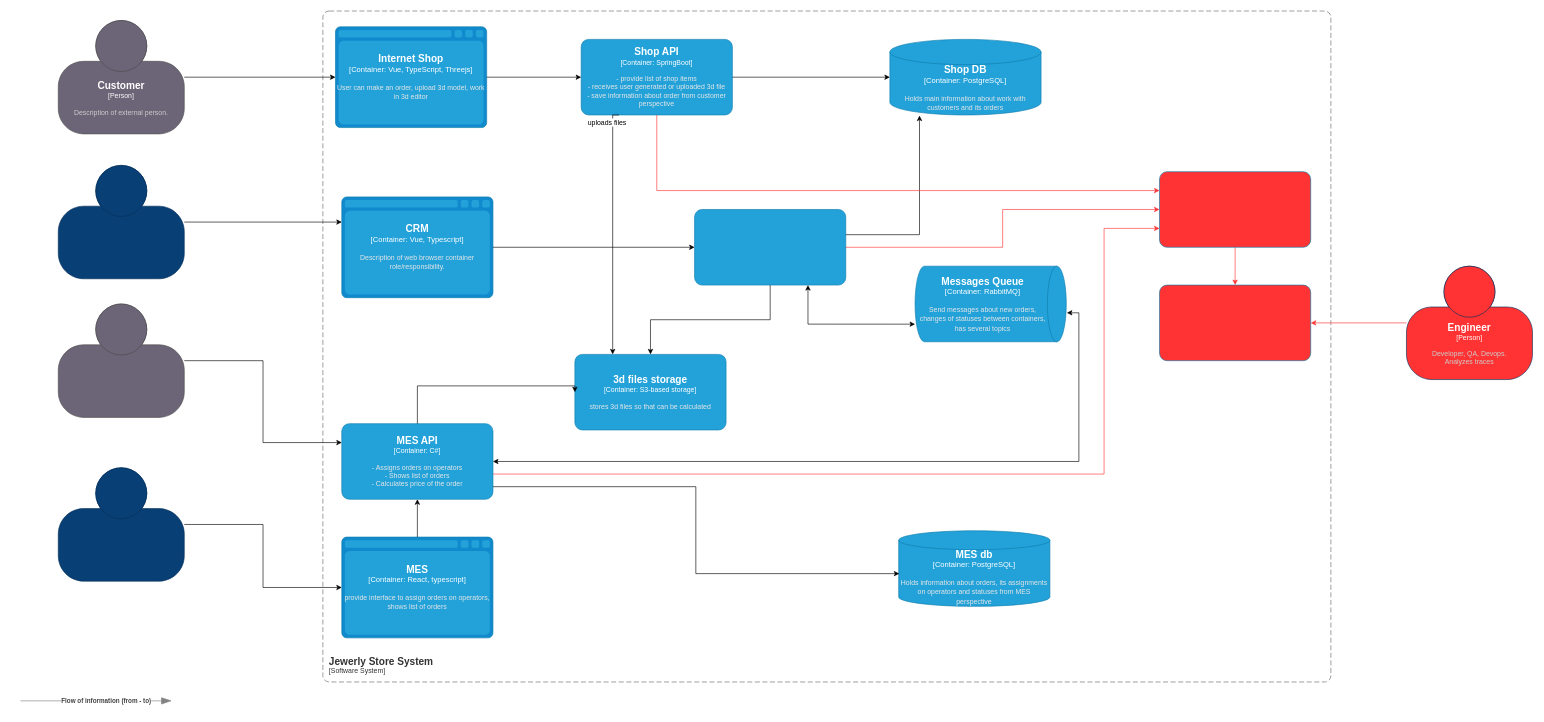
Some shapes in this 1544 by 722 pixel diagram are drawn without their labels. The shapes that lost their labels are listed below. From the top down, each one's centre as x and y in pixels, then its label:
pixel 121 222: Seller [Person] Operates with order, confirms manufacturing for the user
pixel 1235 209: OpenTelemetry Collector [Container: ] Collects and processes traces
pixel 770 247: CRM API [Container: SpringBoot] Description of container role/responsibility.
pixel 1235 322: Jaeger [Container: ] Stores and visualizes traces
pixel 121 360: API user [Person] Description of external person.
pixel 121 524: Operator [Person] Takes order in work, manufactures jewerly
